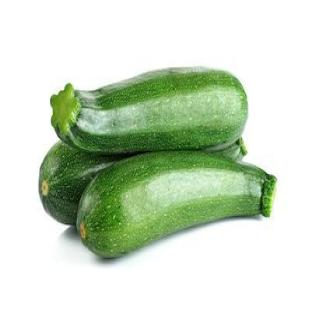Zucchini: (78, 152, 276, 257), (51, 68, 247, 153), (39, 142, 120, 224), (204, 138, 247, 160)
